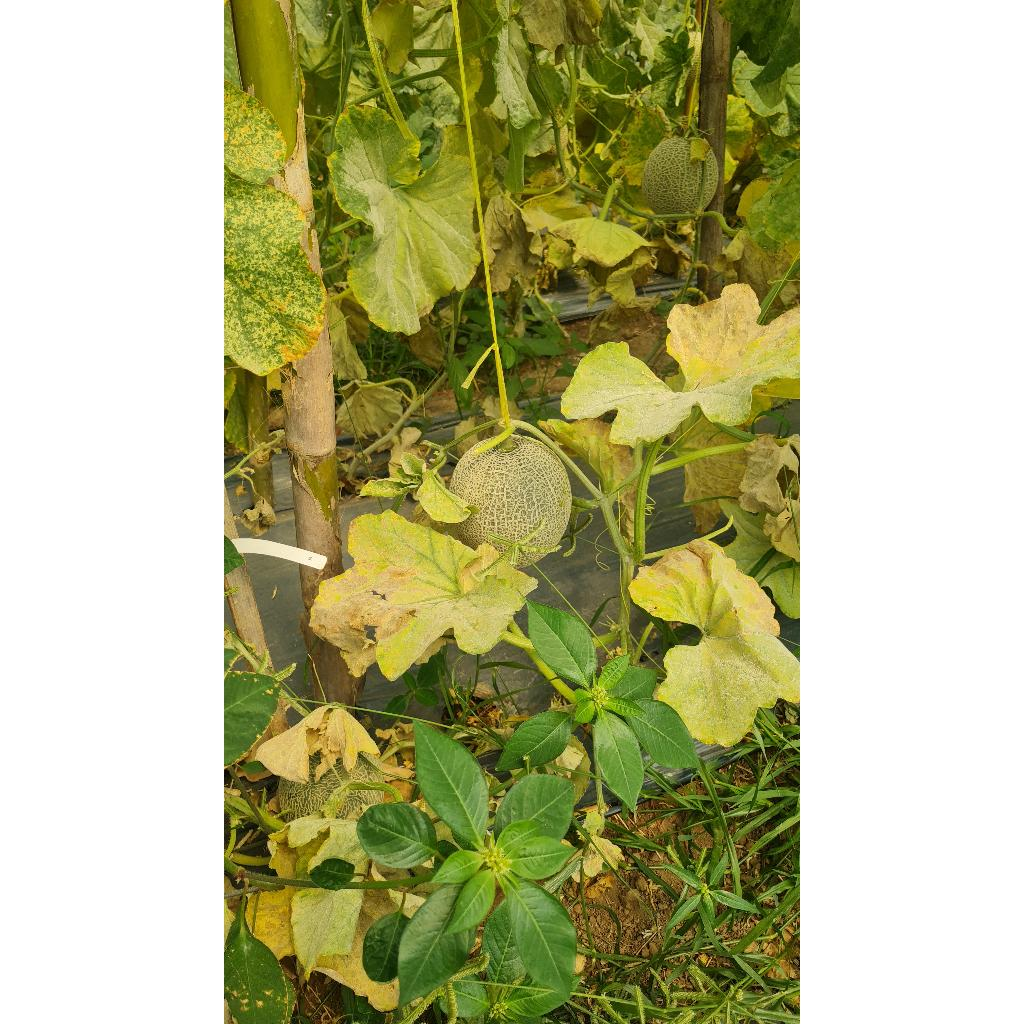melon: (446, 434, 572, 552)
